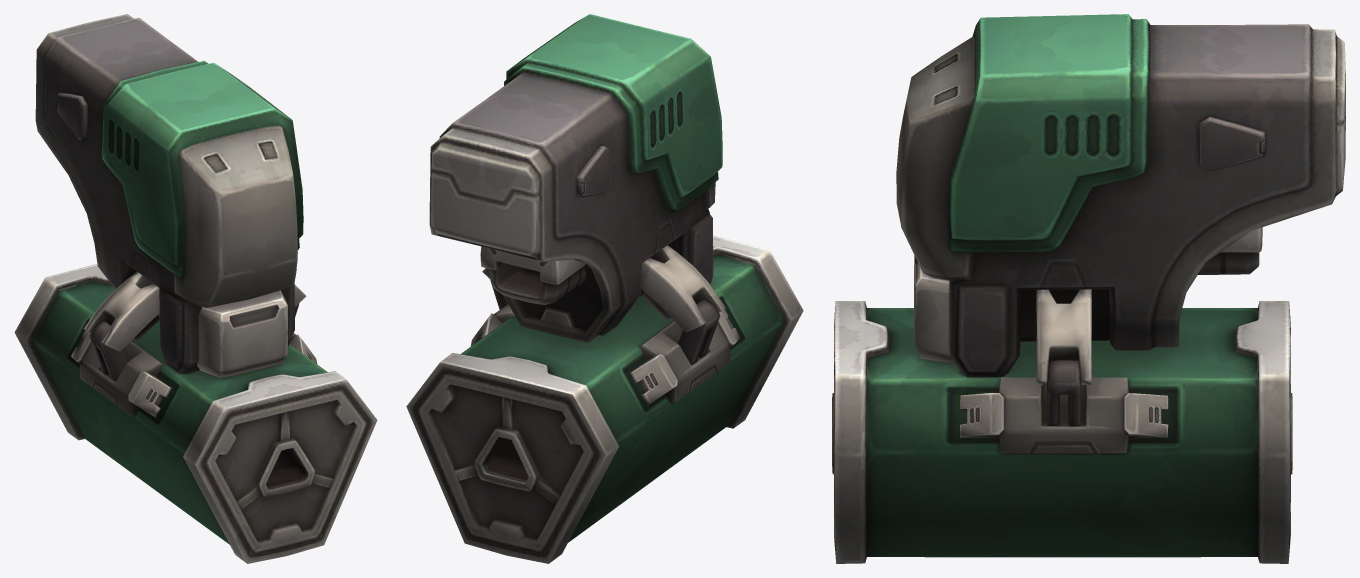
Rendered from SpiceFreighterDrone_real.fbx.
3 views of the same model, side by side, from view 1: azimuth 30°, elevation 25°; view 2: azimuth 150°, elevation 25°; view 3: azimuth 270°, elevation 25° (orthographic). The views are drawn at different scales.
Parts seen in each view (by area): view 1: SpiceFreighter_drone; view 2: SpiceFreighter_drone; view 3: SpiceFreighter_drone.
Part boxes in pixels (x1,y1,x2,y2): SpiceFreighter_drone: (14,14,377,563); SpiceFreighter_drone: (406,14,803,563); SpiceFreighter_drone: (832,14,1345,563).
Bounding box in the file's own units: 0.4653 × 0.817 × 0.8796.
